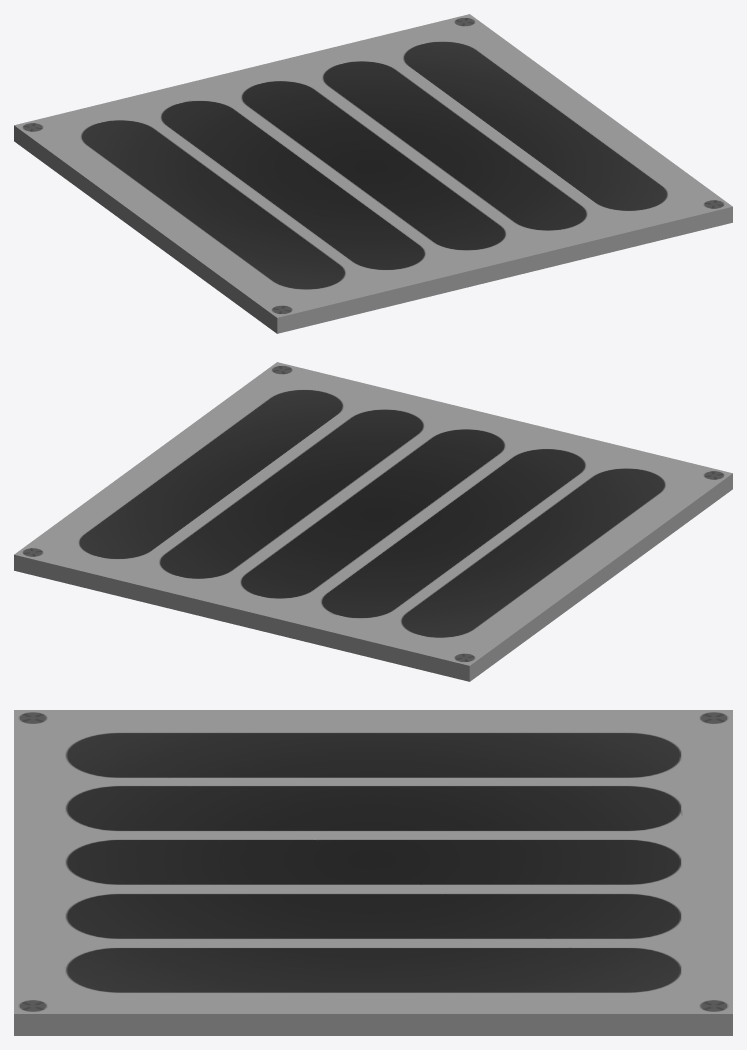
The model's file is Vent.fbx.
The picture shows the model from 3 angles, top to bottom: view 1: azimuth 30°, elevation 25°; view 2: azimuth 150°, elevation 25°; view 3: azimuth 270°, elevation 25°; orthographic projection. The views are drawn at different scales.
Parts seen in each view (by area): view 1: Plane001; view 2: Plane001; view 3: Plane001.
Boxes of the visible parts, x1,y1,x2,y2 form: Plane001: (14, 14, 732, 333); Plane001: (14, 362, 732, 681); Plane001: (14, 710, 732, 1035).
Size of the model in its own units: 11.81 by 0.3966 by 11.81.
